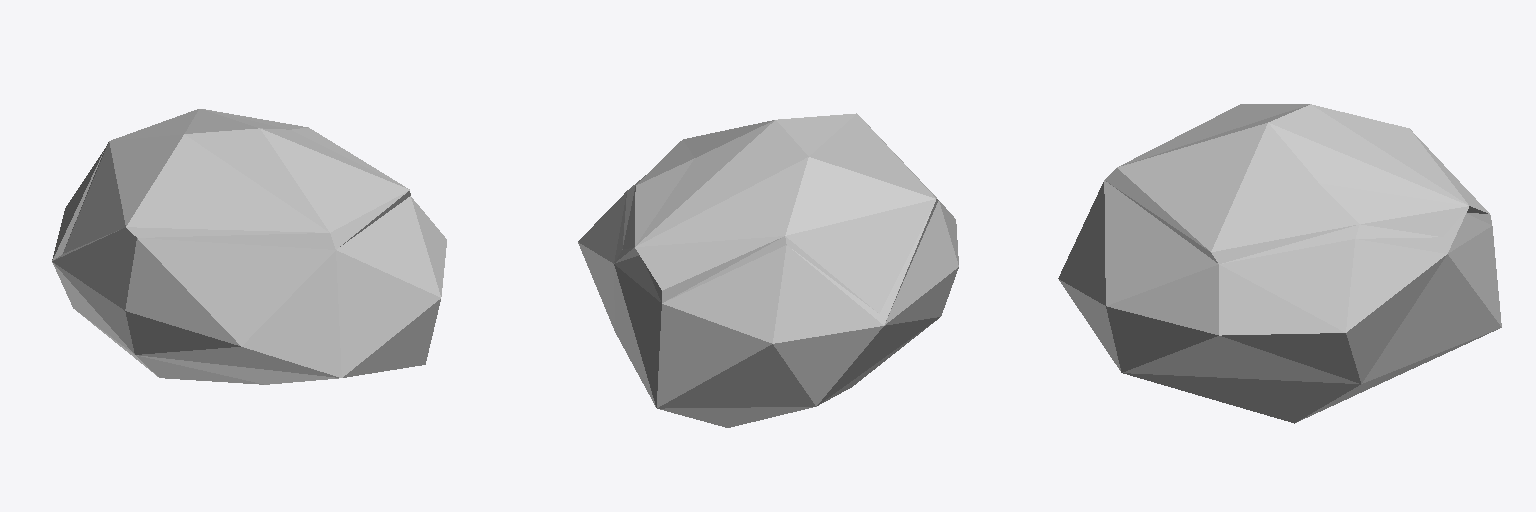
File: plains_rock5.obj
The picture shows the model from 3 angles: view 1: azimuth 30°, elevation 25°; view 2: azimuth 150°, elevation 25°; view 3: azimuth 270°, elevation 25°; orthographic projection.
Size of the model in its own units: 2.3 by 1.81 by 2.74.